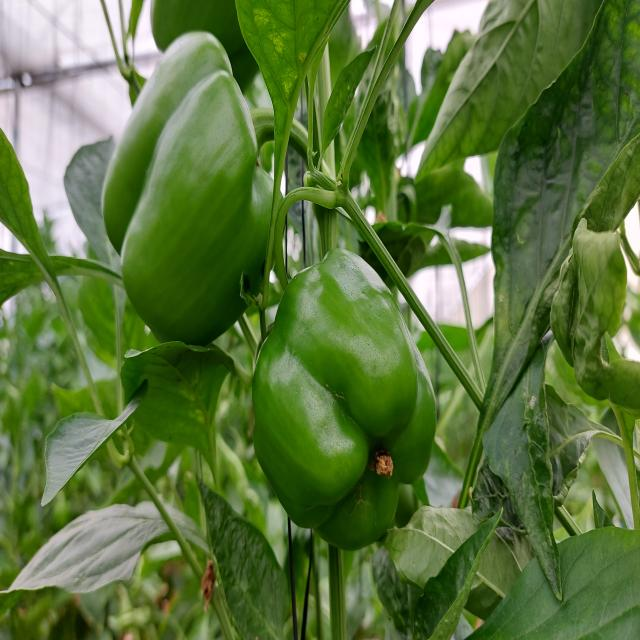Green--Not-ready-to-harvest: (99, 32, 289, 348), (253, 251, 437, 551)
